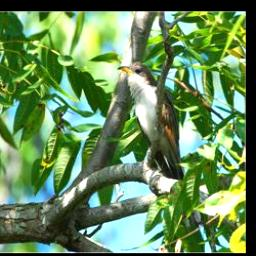Cuckoo: (118, 60, 185, 179)
